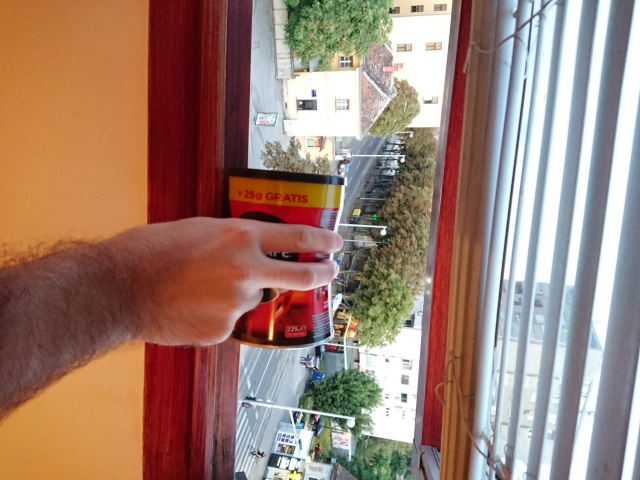Nescafe Classic 225g: (218, 165, 347, 353)
